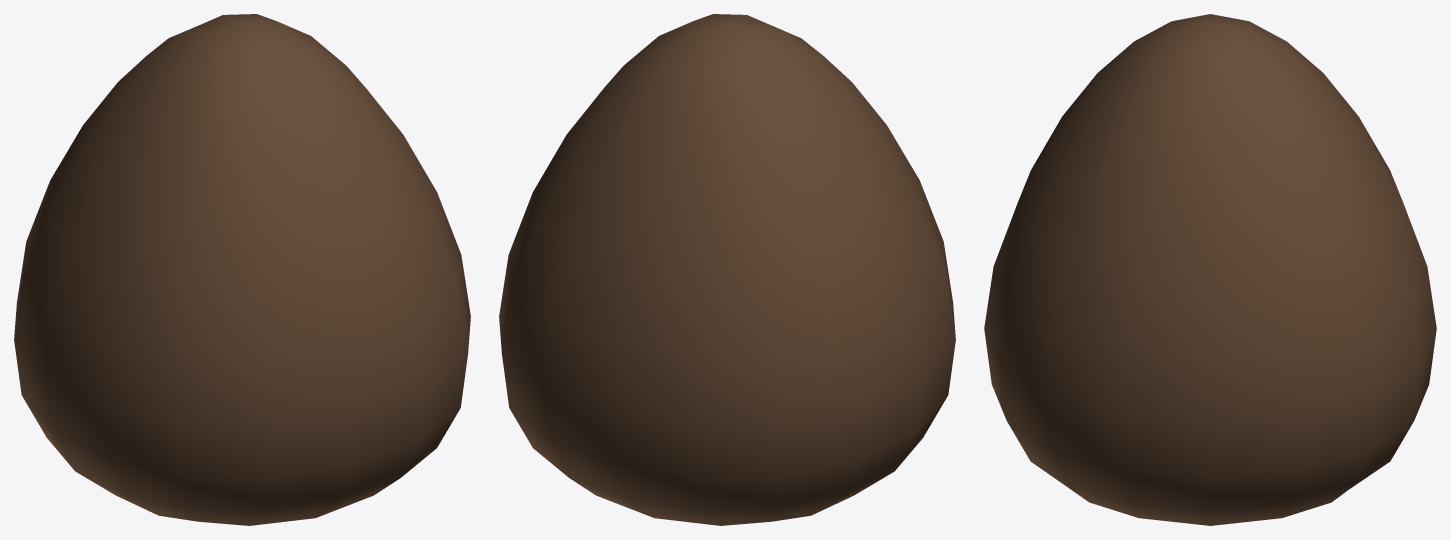
The model's file is Seed.fbx.
The picture shows the model from 3 angles, left to right: view 1: azimuth 30°, elevation 25°; view 2: azimuth 150°, elevation 25°; view 3: azimuth 270°, elevation 25°; orthographic projection.
Parts seen in each view (by area): view 1: Cube.008; view 2: Cube.008; view 3: Cube.008.
Boxes of the visible parts, bbox=[...] form: Cube.008: bbox=[14, 14, 470, 525]; Cube.008: bbox=[499, 14, 955, 525]; Cube.008: bbox=[984, 14, 1436, 525].
Bounding box in the file's own units: 0.0909 × 0.0909 × 0.1039.
